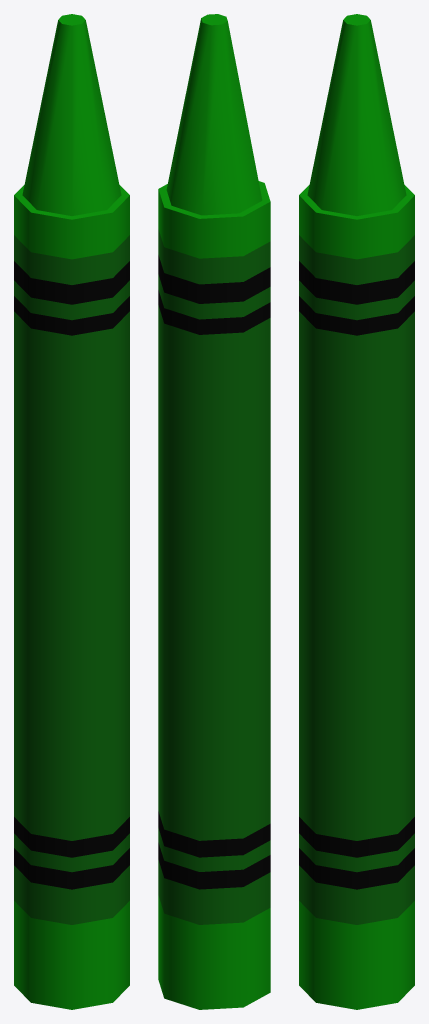
The model's file is CrayonGreen.fbx.
3 views of the same model, side by side, from view 1: azimuth 90°, elevation 25°; view 2: azimuth 210°, elevation 25°; view 3: azimuth 270°, elevation 25° (orthographic).
Visible parts, largest first — view 1: pasted__pCylinder1; view 2: pasted__pCylinder1; view 3: pasted__pCylinder1.
Part boxes in pixels (x1,y1,x2,y2): pasted__pCylinder1: (14,14,129,1009); pasted__pCylinder1: (158,14,270,1009); pasted__pCylinder1: (299,14,414,1009).
Size of the model in its own units: 1.37 by 12.55 by 1.37.
